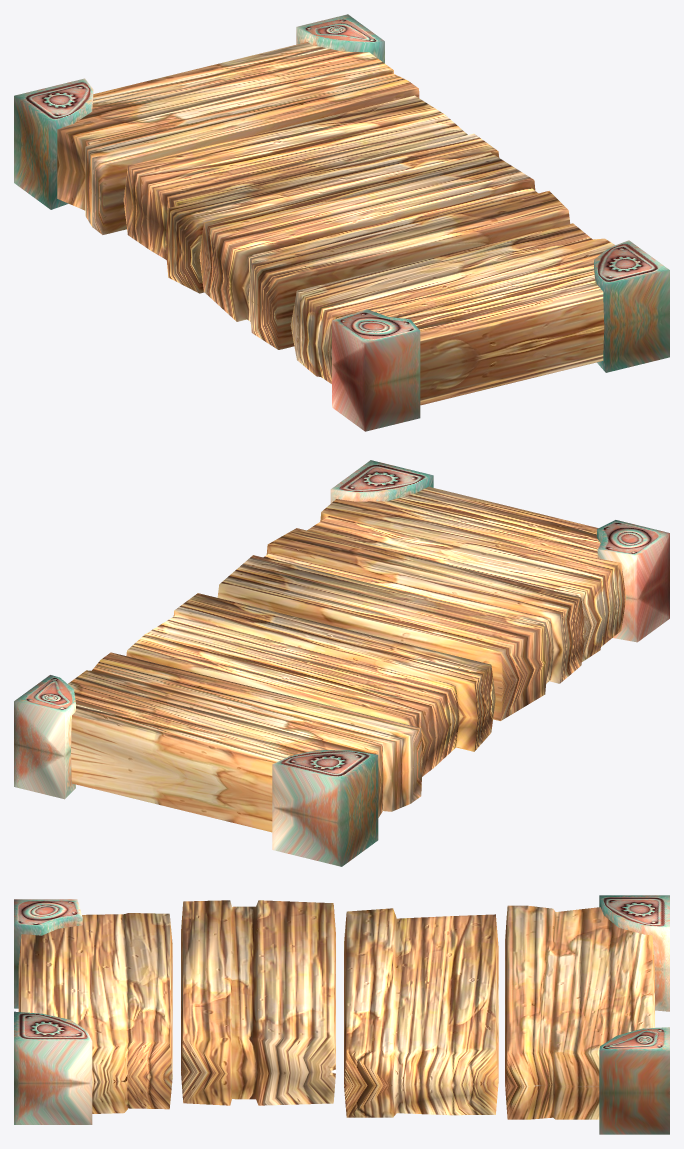
File: afd5a77d-d452-4f59-9a43-b9184a1a29cb.glb
The picture shows the model from 3 angles, top to bottom: view 1: azimuth 30°, elevation 25°; view 2: azimuth 150°, elevation 25°; view 3: azimuth 270°, elevation 25°; orthographic projection. The views are drawn at different scales.
Parts seen in each view (by area): view 1: SteampunkPlatformPathDetail, SteampunkPlatformPathDetail.001; view 2: SteampunkPlatformPathDetail, SteampunkPlatformPathDetail.001; view 3: SteampunkPlatformPathDetail, SteampunkPlatformPathDetail.001.
Part boxes in pixels (x1,y1,x2,y2): SteampunkPlatformPathDetail: [14, 14, 669, 431]; SteampunkPlatformPathDetail.001: [199, 152, 570, 349]; SteampunkPlatformPathDetail: [14, 460, 669, 866]; SteampunkPlatformPathDetail.001: [217, 528, 585, 720]; SteampunkPlatformPathDetail: [14, 895, 669, 1134]; SteampunkPlatformPathDetail.001: [181, 900, 335, 1105].
Size of what is drawn, in the model's own units: 2.27 by 0.5657 by 4.03.
1 material, 1 textured.
